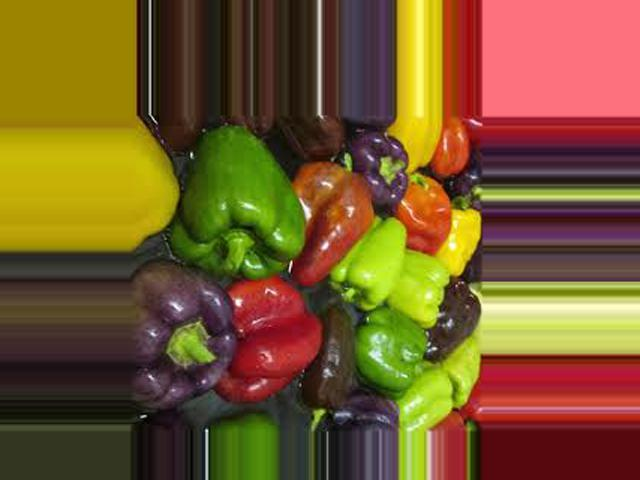bell_pepper: (345, 123, 420, 208)
